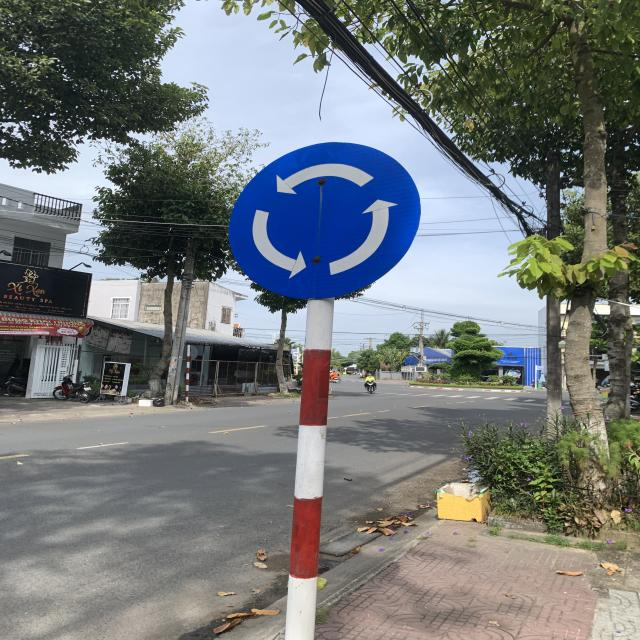Xe_Bus: (225, 141, 422, 301)
